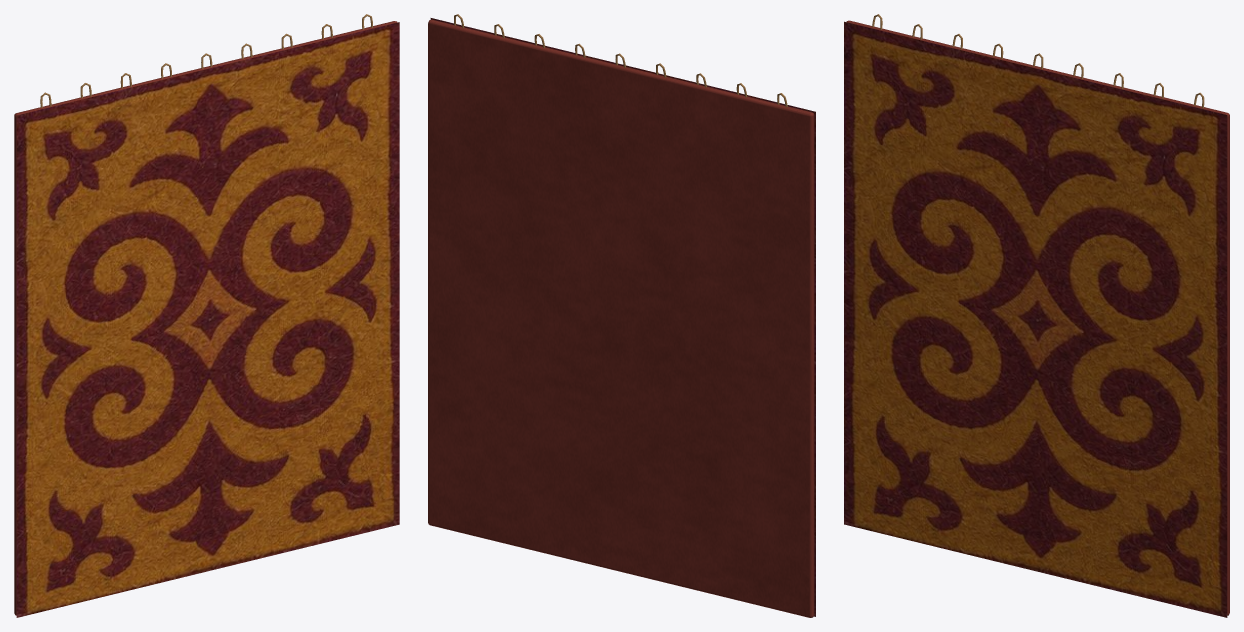
Rendered from wall-hanging.glb.
3 renders of one model, left to right at view 1: azimuth 30°, elevation 25°; view 2: azimuth 150°, elevation 25°; view 3: azimuth 330°, elevation 25°, orthographic.
Parts seen in each view (by area): view 1: Felt wall hanging; view 2: Felt wall hanging; view 3: Felt wall hanging.
Boxes of the visible parts, x1=… form: Felt wall hanging: x1=14, y1=14, x2=399, y2=617; Felt wall hanging: x1=428, y1=14, x2=815, y2=617; Felt wall hanging: x1=844, y1=14, x2=1229, y2=617.
Size of the model in its own units: 1.42 by 1.83 by 0.0245.
3 materials, 3 textured.
